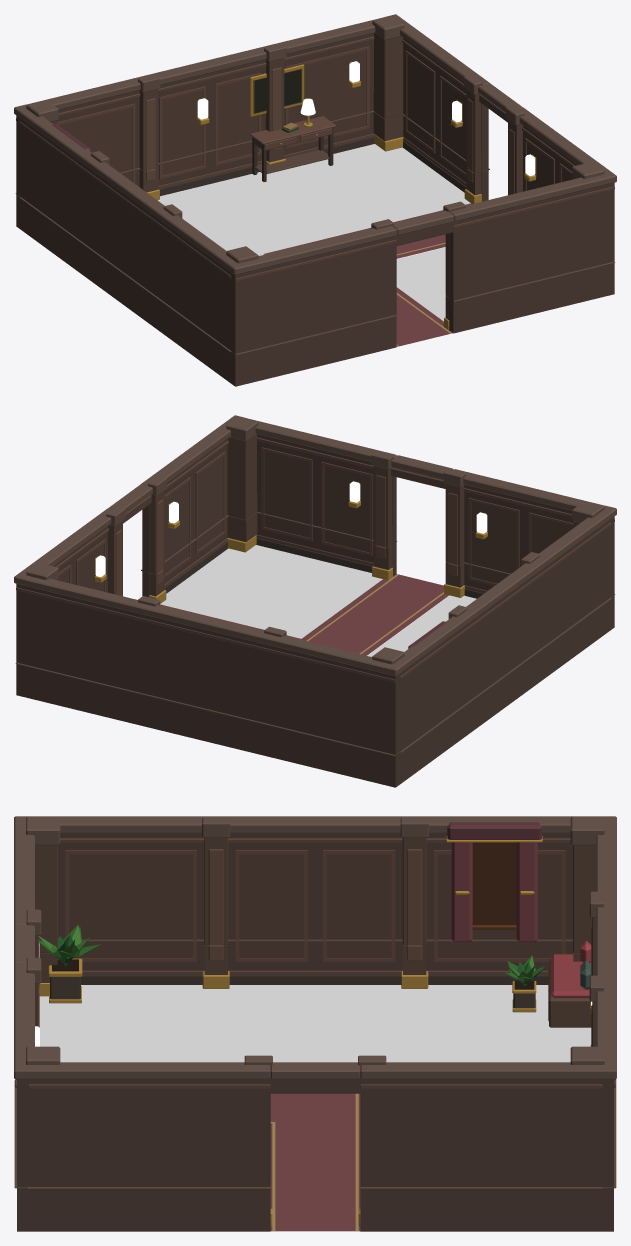
Rendered from cornerCorridor.glb.
The picture shows the model from 3 angles, top to bottom: view 1: azimuth 30°, elevation 25°; view 2: azimuth 150°, elevation 25°; view 3: azimuth 270°, elevation 25°; orthographic projection. The views are drawn at different scales.
Visible parts, largest first — view 1: static, W_north_0_up, floor, W_west_0_up, W_south_0_up, W_south_1_up, W_east_0_up, W_east_1_up; view 2: W_north_0_up, static, W_west_0_up, floor, W_south_1_up, W_south_0_up, W_east_1_up, W_east_0_up; view 3: W_west_0_up, static, floor, W_east_0_up, W_east_1_up, W_north_0_up, W_south_0_up, W_south_1_up.
Boxes of the visible parts, bbox=[...] form: static: bbox=[15, 92, 615, 386]; W_north_0_up: bbox=[14, 15, 404, 196]; floor: bbox=[158, 144, 471, 346]; W_west_0_up: bbox=[14, 104, 246, 350]; W_south_0_up: bbox=[226, 210, 453, 353]; W_south_1_up: bbox=[443, 162, 616, 300]; W_east_0_up: bbox=[385, 14, 522, 173]; W_east_1_up: bbox=[505, 105, 616, 195]; W_north_0_up: bbox=[14, 563, 404, 754]; static: bbox=[15, 493, 615, 787]; W_west_0_up: bbox=[384, 505, 616, 751]; floor: bbox=[160, 545, 476, 656]; W_south_1_up: bbox=[226, 416, 396, 547]; W_south_0_up: bbox=[391, 455, 616, 597]; W_east_1_up: bbox=[141, 415, 245, 574]; W_east_0_up: bbox=[14, 484, 152, 596]; W_west_0_up: bbox=[14, 816, 616, 945]; static: bbox=[14, 925, 616, 1231]; floor: bbox=[39, 985, 591, 1231]; W_east_0_up: bbox=[270, 1055, 616, 1186]; W_east_1_up: bbox=[14, 1055, 272, 1186]; W_north_0_up: bbox=[570, 816, 616, 1186]; W_south_0_up: bbox=[14, 816, 60, 987]; W_south_1_up: bbox=[14, 957, 60, 1186].
Bounding box in the file's own units: 8.08 × 2.48 × 8.08.
